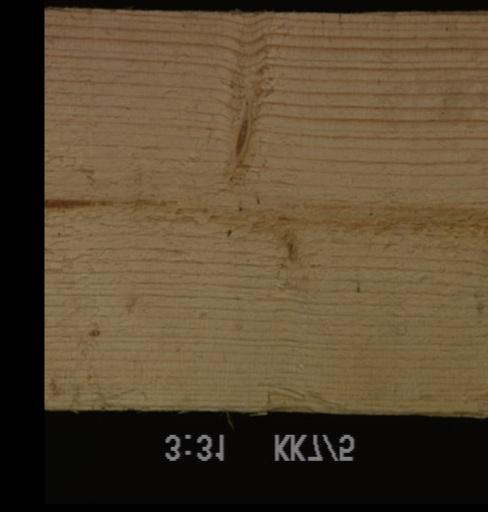small_knot: (278, 235, 310, 269)
